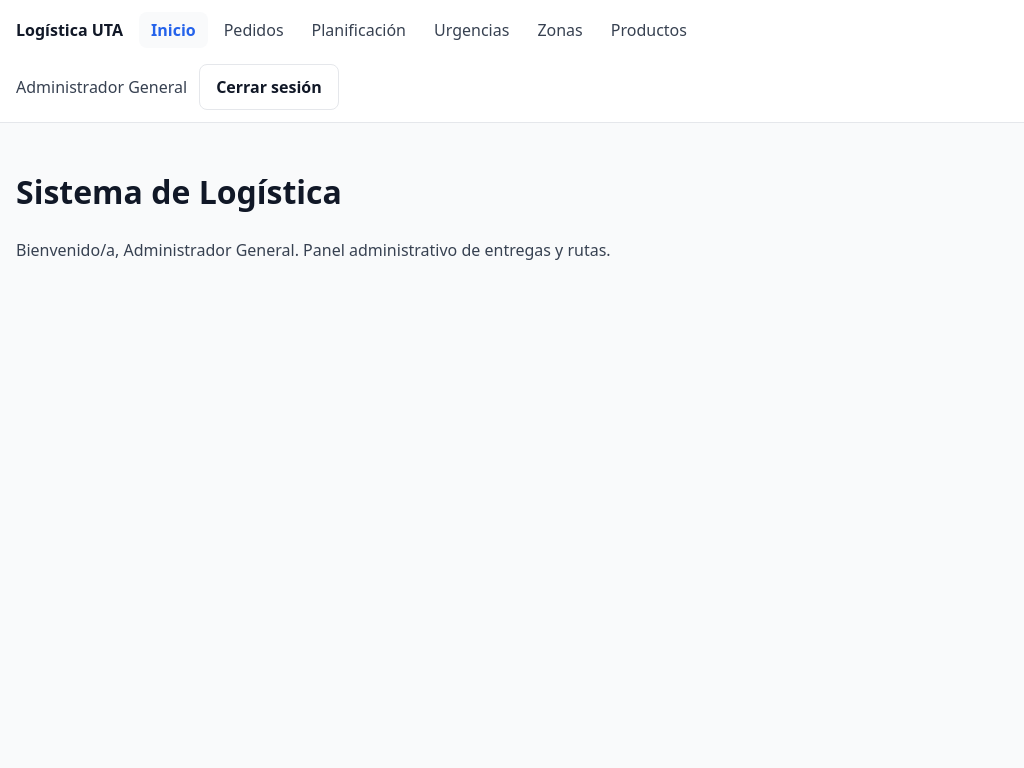
it: App › cierra sesión desde el encabezado y vuelve al login
Step 1. Click the button "Cerrar sesión" → {"x": 269, "y": 87}, box [199,64,339,110]
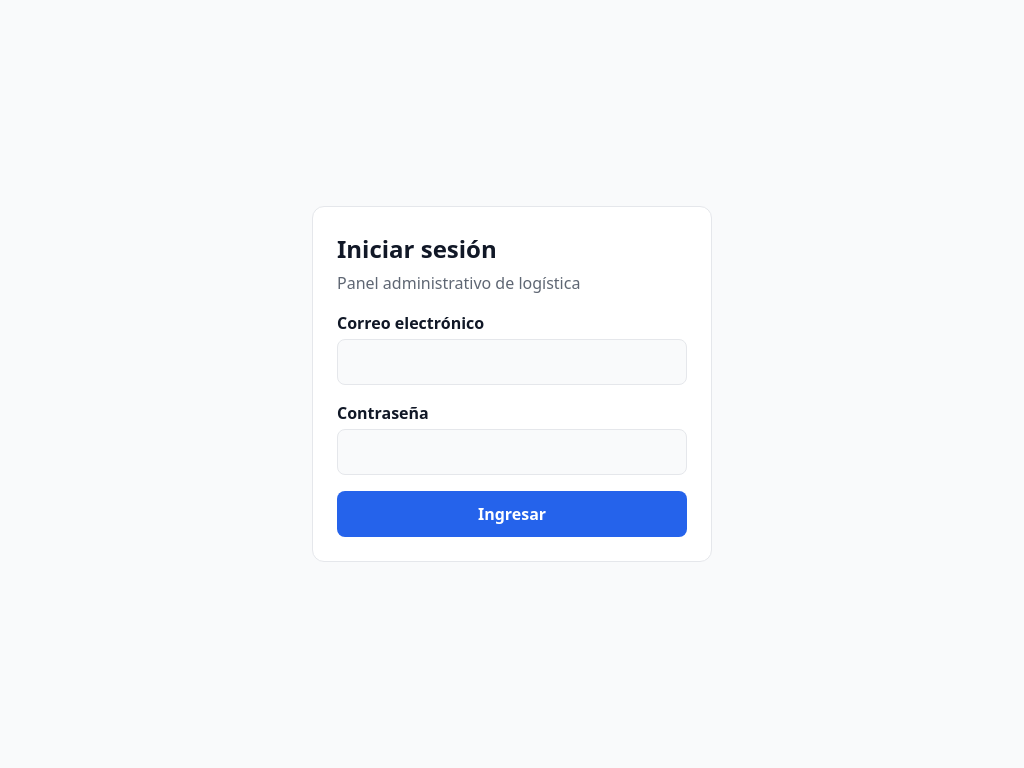
Result: the heading "Iniciar sesión" is shown at [337,232,497,265]
